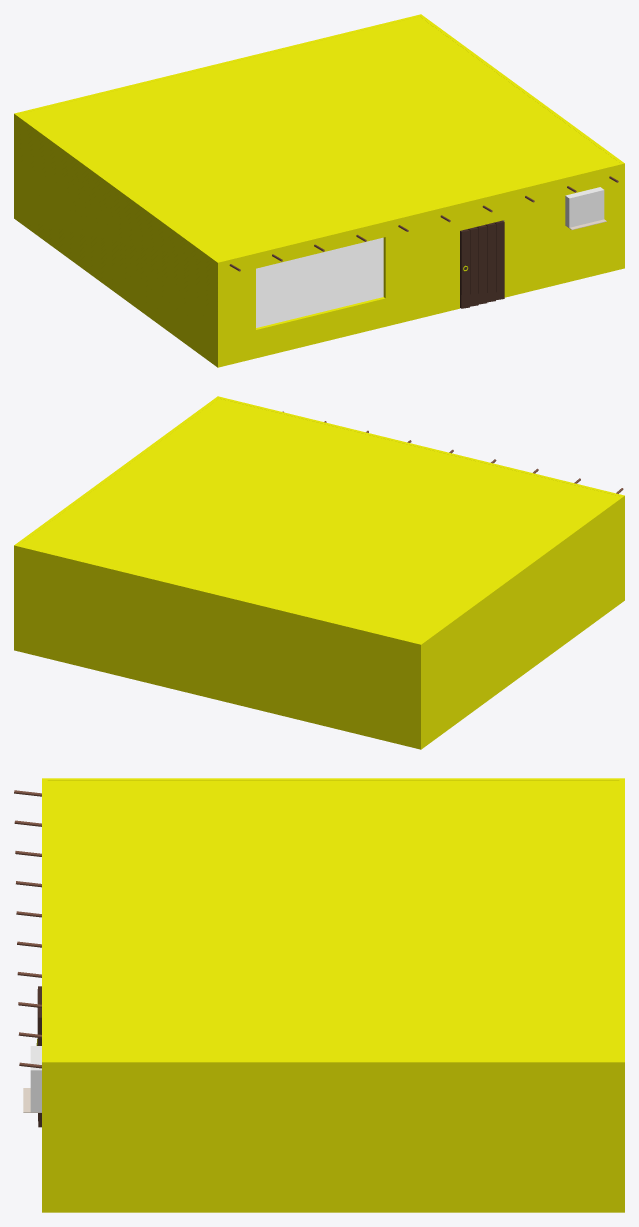
File: SmallShop.fbx
3 renders of one model, top to bottom at view 1: azimuth 30°, elevation 25°; view 2: azimuth 150°, elevation 25°; view 3: azimuth 270°, elevation 25°, orthographic. The views are drawn at different scales.
Visible parts, largest first — view 1: Cube.003, Room, Floor, Cube.004, CTRL_Hole.001; view 2: Cube.003, Room; view 3: Cube.003, Room, Cylinder, CTRL_Hole.001.
Part boxes in pixels (x1,y1,x2,y2): Cube.003: [19, 16, 619, 260]; Room: [14, 14, 624, 367]; Floor: [256, 237, 460, 327]; Cube.004: [460, 220, 504, 308]; CTRL_Hole.001: [565, 187, 604, 227]; Cube.003: [19, 398, 619, 642]; Room: [14, 396, 624, 749]; Cube.003: [47, 781, 619, 1059]; Room: [42, 778, 624, 1212]; Cylinder: [14, 790, 41, 1068]; CTRL_Hole.001: [30, 1046, 41, 1112].
Bounding box in the file's own units: 1389 × 348 × 1262.
